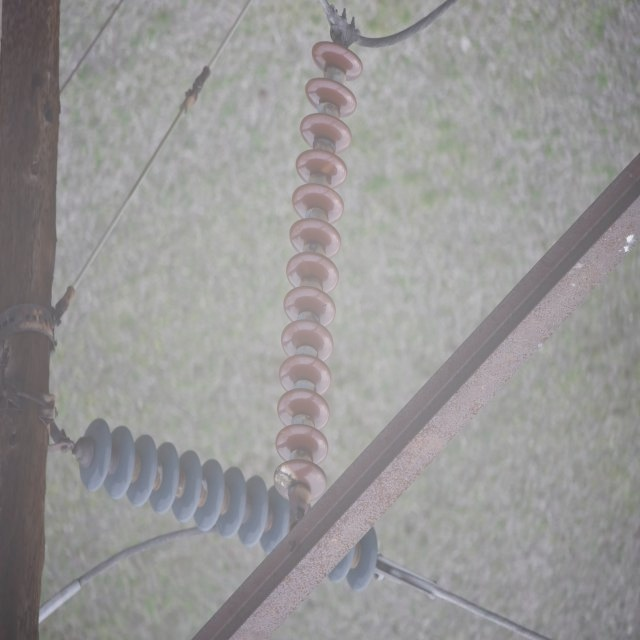insulator: (80, 410, 375, 589), (272, 45, 364, 503)
